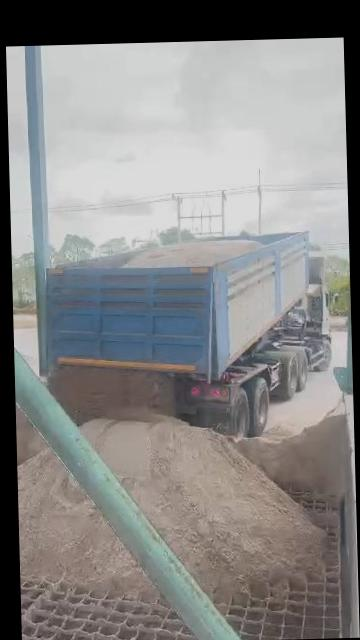sand: (49, 367, 325, 601), (17, 441, 153, 595), (238, 405, 346, 498), (125, 240, 261, 267), (16, 404, 41, 465)
